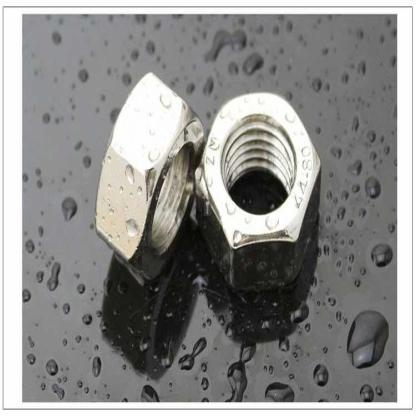FOD: (195, 87, 324, 308), (92, 69, 206, 286)
